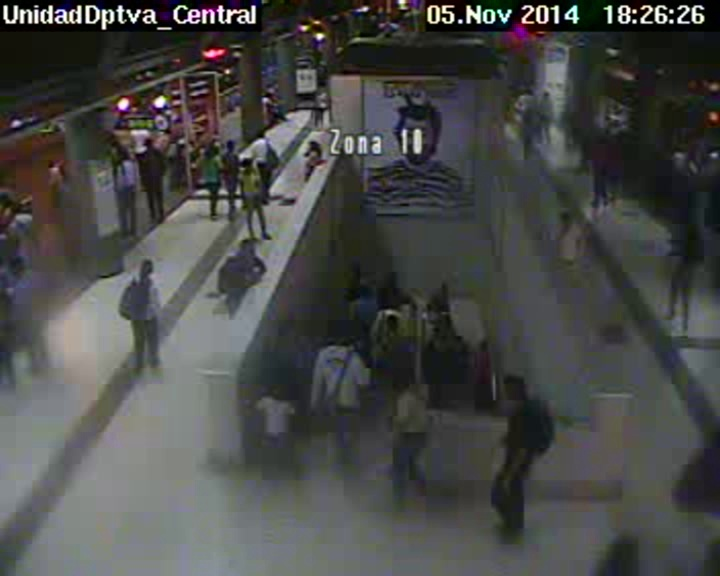person: (499, 373, 530, 404), (8, 257, 31, 279), (556, 208, 577, 229), (399, 299, 416, 322), (266, 380, 286, 399), (237, 156, 256, 174), (394, 373, 412, 391), (681, 215, 698, 234), (383, 272, 401, 289), (138, 259, 154, 277), (329, 326, 345, 344), (381, 313, 395, 333), (237, 239, 253, 256), (118, 145, 134, 162), (358, 284, 375, 300), (139, 135, 157, 150), (475, 339, 491, 355), (436, 279, 451, 295), (608, 136, 622, 153), (9, 201, 24, 216), (594, 129, 607, 146), (421, 299, 434, 315), (306, 141, 320, 155), (223, 139, 238, 152), (110, 139, 123, 153), (201, 146, 216, 157), (350, 262, 362, 274), (46, 160, 57, 171), (254, 129, 266, 139), (524, 107, 535, 117), (523, 87, 532, 97), (543, 90, 552, 99), (317, 86, 325, 94), (264, 91, 272, 99), (266, 85, 273, 93), (273, 82, 280, 90)
